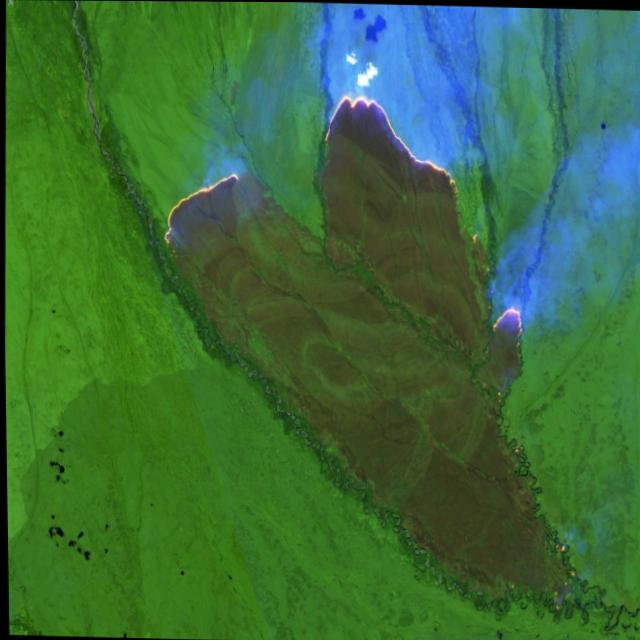fire: (315, 88, 462, 201), (154, 158, 247, 256), (485, 299, 529, 348)
